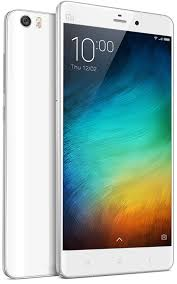mi: (52, 1, 177, 284)
